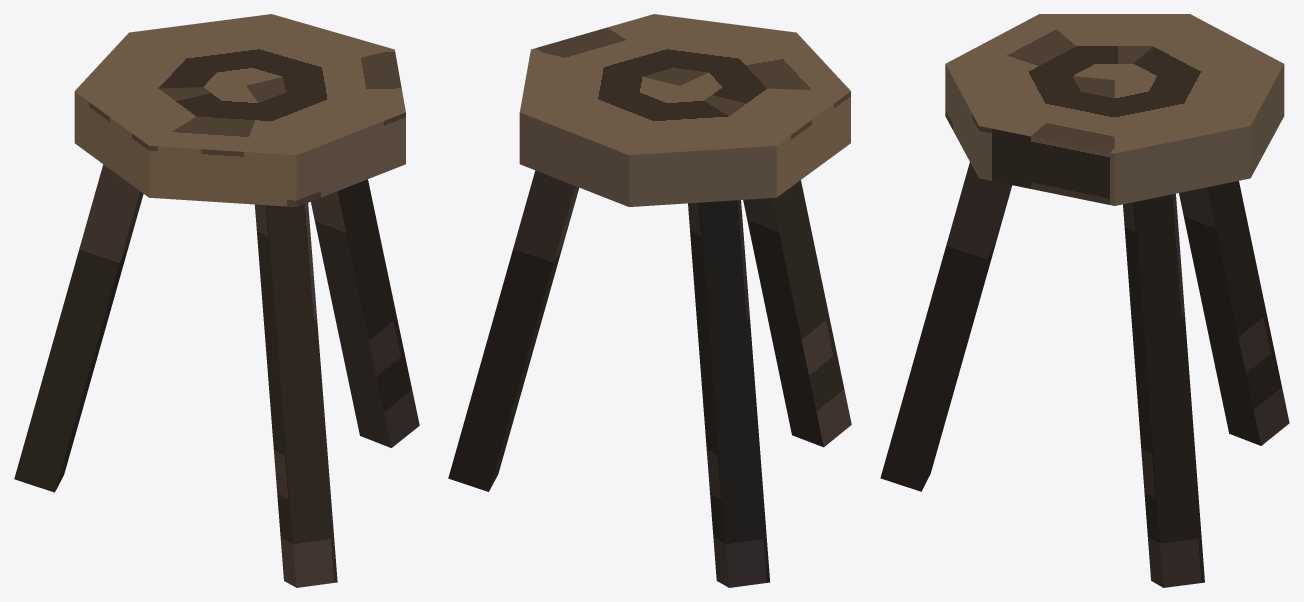
File: mprop.bench__stool.glb
The picture shows the model from 3 angles, left to right: view 1: azimuth 30°, elevation 25°; view 2: azimuth 150°, elevation 25°; view 3: azimuth 270°, elevation 25°; orthographic projection.
Parts seen in each view (by area): view 1: kit_seat, kit_legs; view 2: kit_seat, kit_legs; view 3: kit_seat, kit_legs.
Part boxes in pixels (x1,y1,x2,y2): kit_seat: (74,14,405,206); kit_legs: (14,164,419,587); kit_seat: (519,14,850,206); kit_legs: (448,170,851,587); kit_seat: (945,14,1284,205); kit_legs: (880,162,1289,587).
Size of the model in its own units: 0.4342 by 0.48 by 0.424.
Materials: 2 (2 with a texture image).
